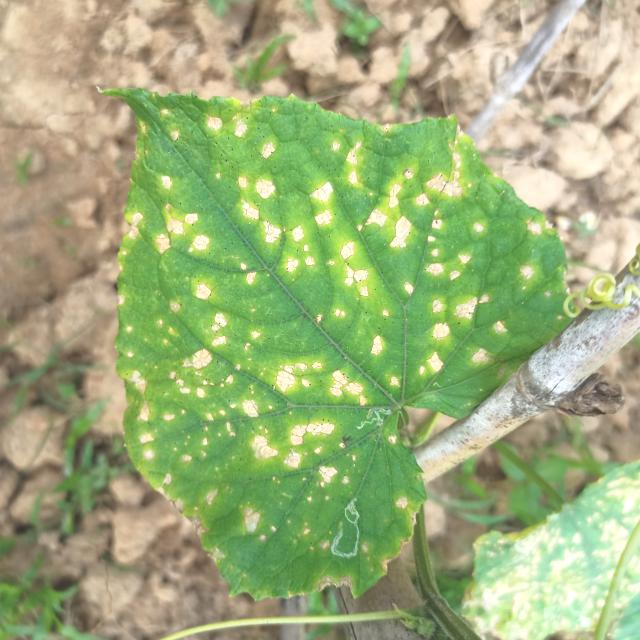disease_cucumber: (132, 110, 520, 560)
